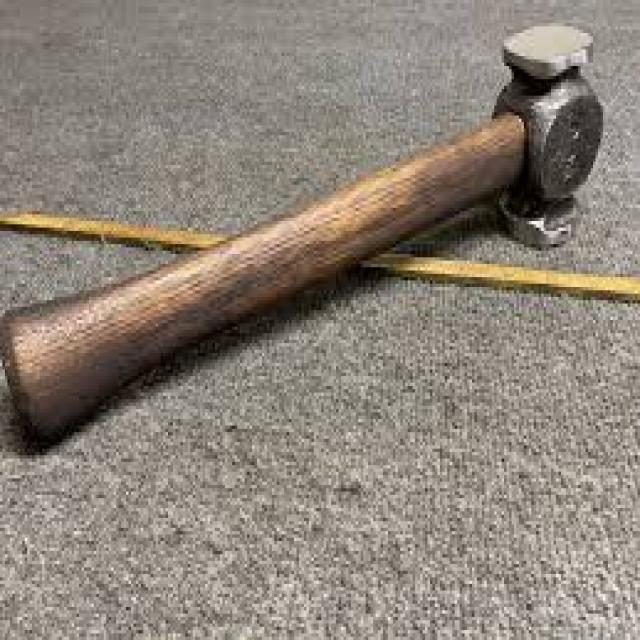hammer: (0, 15, 615, 457)
